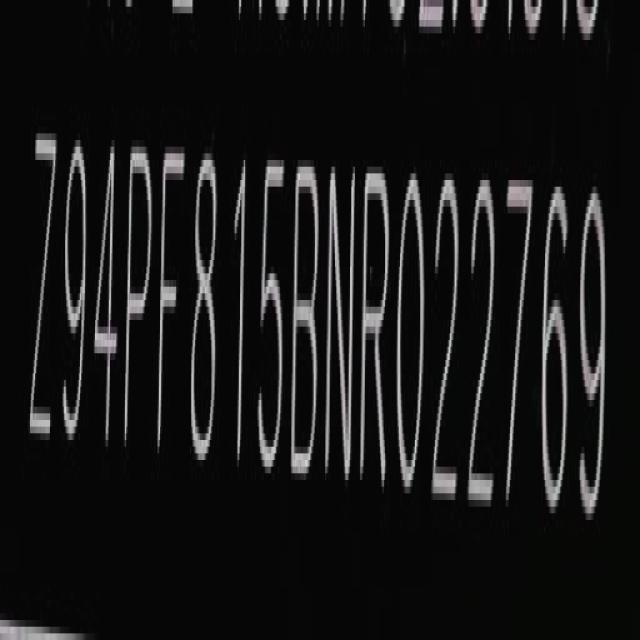0: (395, 168, 427, 507)
1: (230, 149, 250, 479)
2: (467, 175, 498, 515), (432, 173, 462, 512)
4: (95, 134, 121, 460)
5: (255, 153, 289, 474)
6: (541, 177, 573, 522)
7: (506, 171, 537, 518)
8: (192, 147, 220, 471)
9: (579, 189, 609, 524), (61, 134, 88, 458)
B: (292, 151, 323, 486)
F: (155, 138, 186, 467)
N: (327, 157, 358, 491)
P: (126, 133, 155, 464)
R: (360, 160, 392, 496)
Z: (29, 124, 57, 460)
